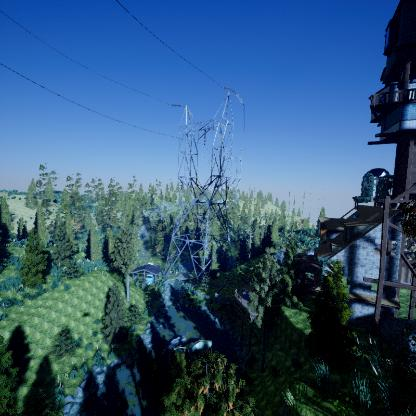tower: (165, 84, 247, 296)
